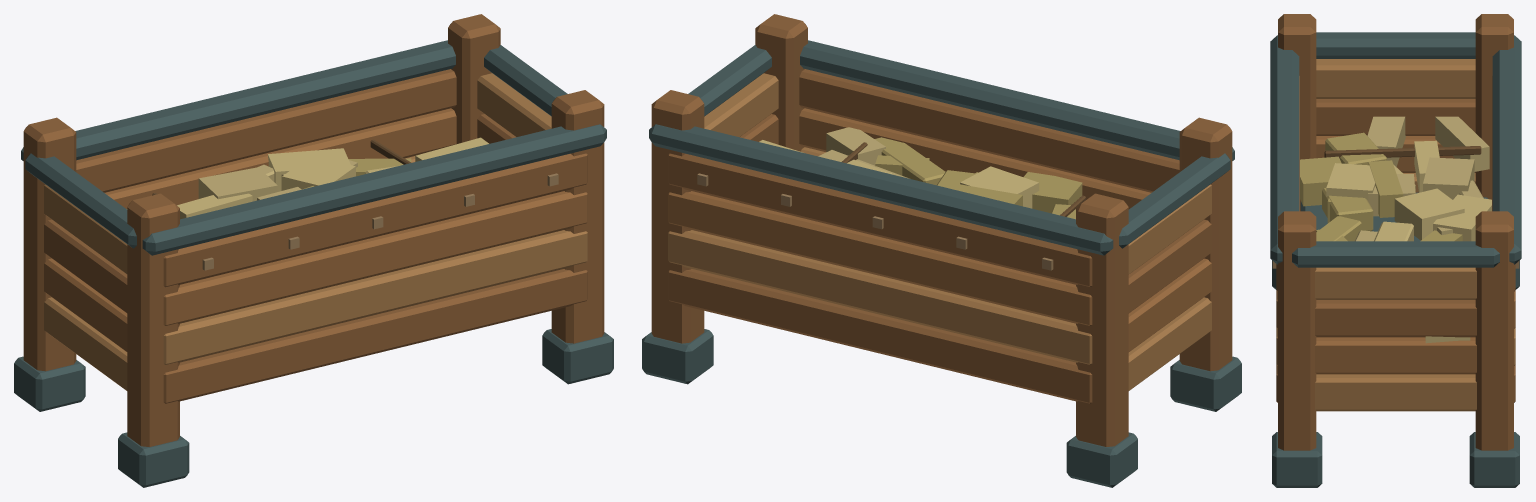
File: w10a-paddock-feed-bin.glb
3 renders of one model, left to right at view 1: azimuth 30°, elevation 25°; view 2: azimuth 150°, elevation 25°; view 3: azimuth 270°, elevation 25°, orthographic. The views are drawn at different scales.
Visible parts, largest first — view 1: Paddock Feed Bin; view 2: Paddock Feed Bin; view 3: Paddock Feed Bin.
Boxes of the visible parts, bbox=[...] form: Paddock Feed Bin: bbox=[14, 14, 613, 487]; Paddock Feed Bin: bbox=[642, 14, 1241, 487]; Paddock Feed Bin: bbox=[1270, 14, 1521, 487].
Bounding box in the file's own units: 2.32 × 1.28 × 1.12.
